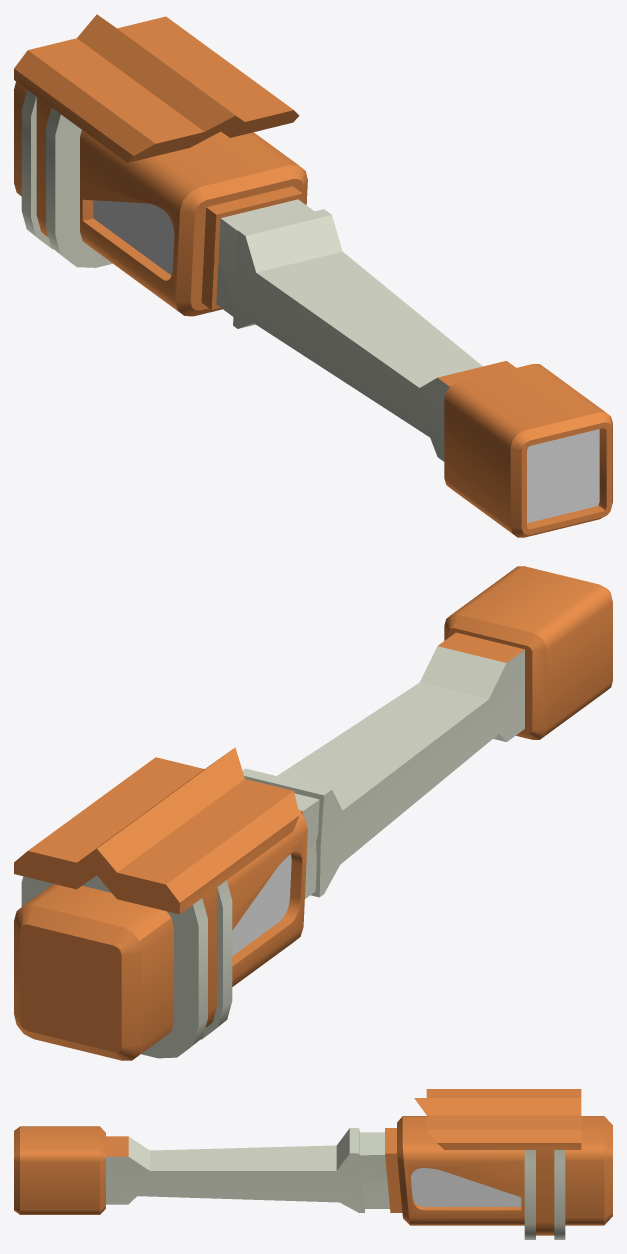
Rendered from laser_beam.fbx.
The picture shows the model from 3 angles, top to bottom: view 1: azimuth 30°, elevation 25°; view 2: azimuth 150°, elevation 25°; view 3: azimuth 270°, elevation 25°; orthographic projection. The views are drawn at different scales.
Visible parts, largest first — view 1: laser_beam; view 2: laser_beam; view 3: laser_beam.
Boxes of the visible parts, box(x1,y1,x2,y2) form: laser_beam: box(14, 14, 612, 537); laser_beam: box(14, 566, 612, 1060); laser_beam: box(14, 1089, 612, 1239).
Size of the model in its own units: 0.1162 by 0.1303 by 0.5642.
